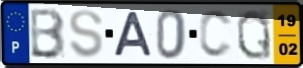0: (154, 7, 188, 61)
A: (111, 10, 155, 58)
B: (29, 6, 68, 61)
C: (197, 9, 234, 60)
Q: (235, 8, 274, 61)
S: (67, 8, 105, 60)
